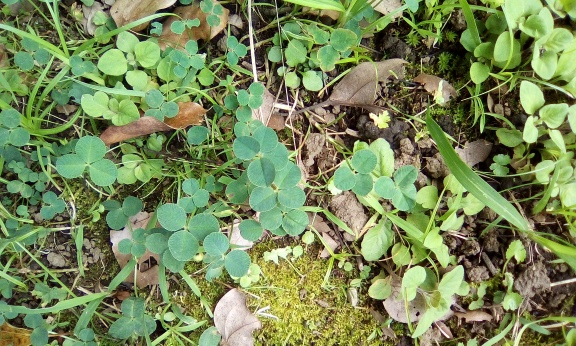4leaf: (232, 126, 288, 187)
